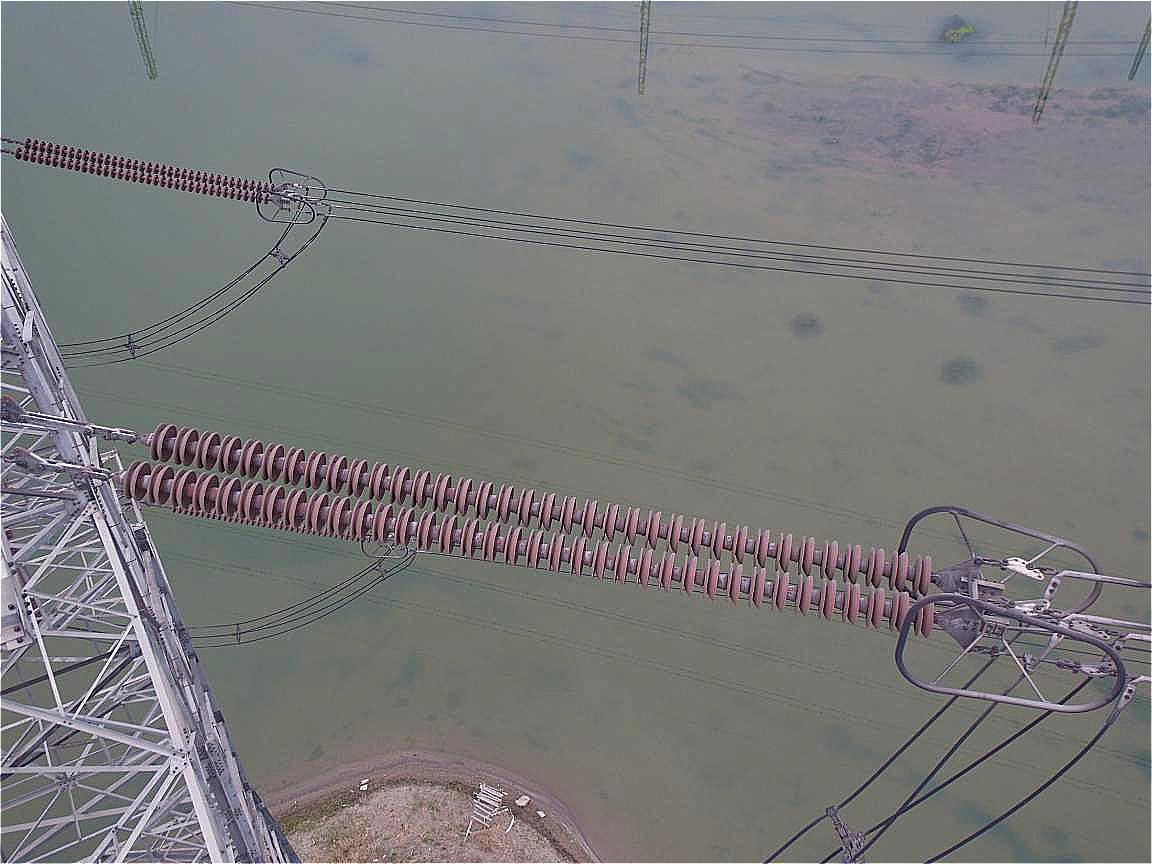insultor1: (13, 138, 276, 205)
insultor2: (120, 421, 935, 637)
